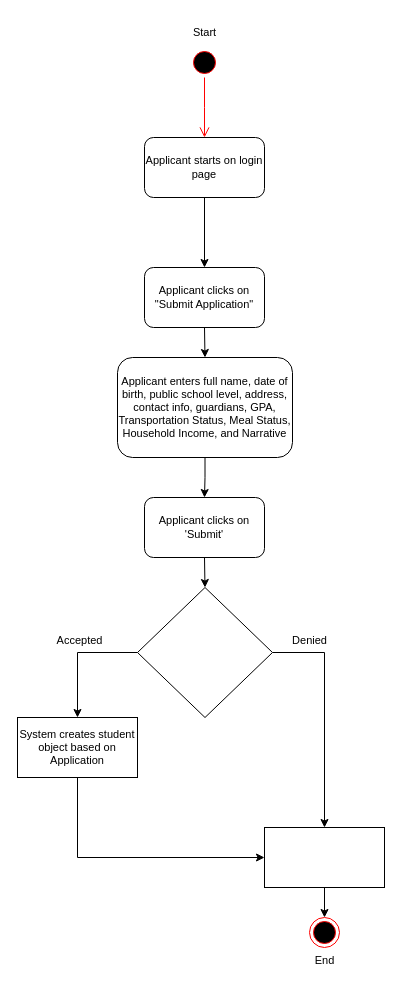
The diagram is 402 pixels wide and 992 high, and some of its shapes have lost their labels. Each missing label, with the centre of its shape:
"Does the admin accept or deny application?" belongs at (204,652).
"System emails student application result." belongs at (324,857).
